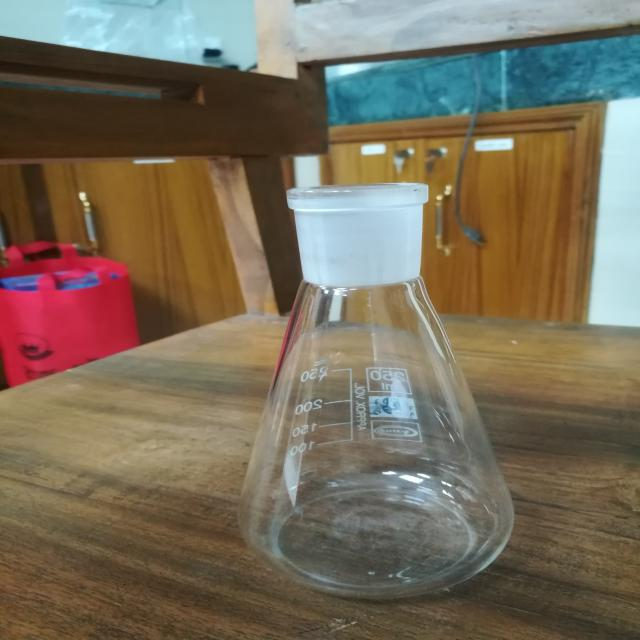Conical_Flask: (211, 147, 549, 616)
